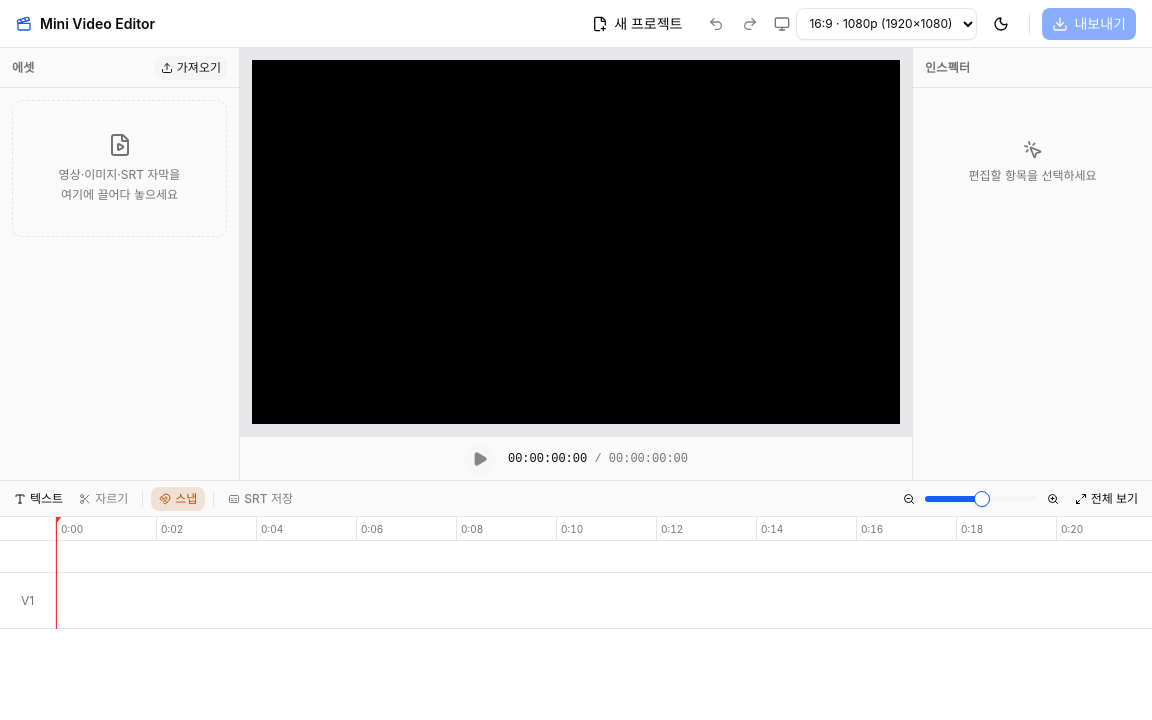
App › undo/redo › 텍스트 추가 → 입력 → 단축키로 한 단계씩 되돌리고 다시 실행한다
Step 1. Click the button "텍스트" → [39, 498], box [8,486,69,510]
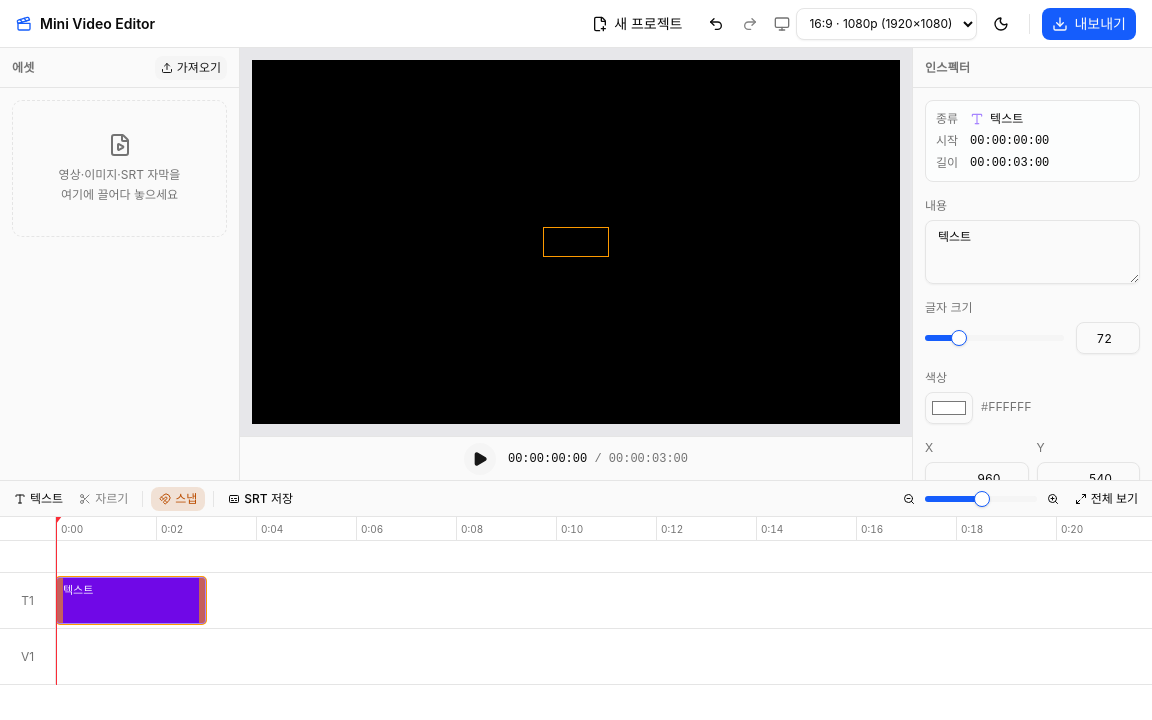
Step 2. Replace the text in the text box labelled "내용" with "안" → [1032, 252], box [925,220,1140,284]
Step 3. Replace the text in the text box labelled "내용" with "안녕" → [1032, 252], box [925,220,1140,284]
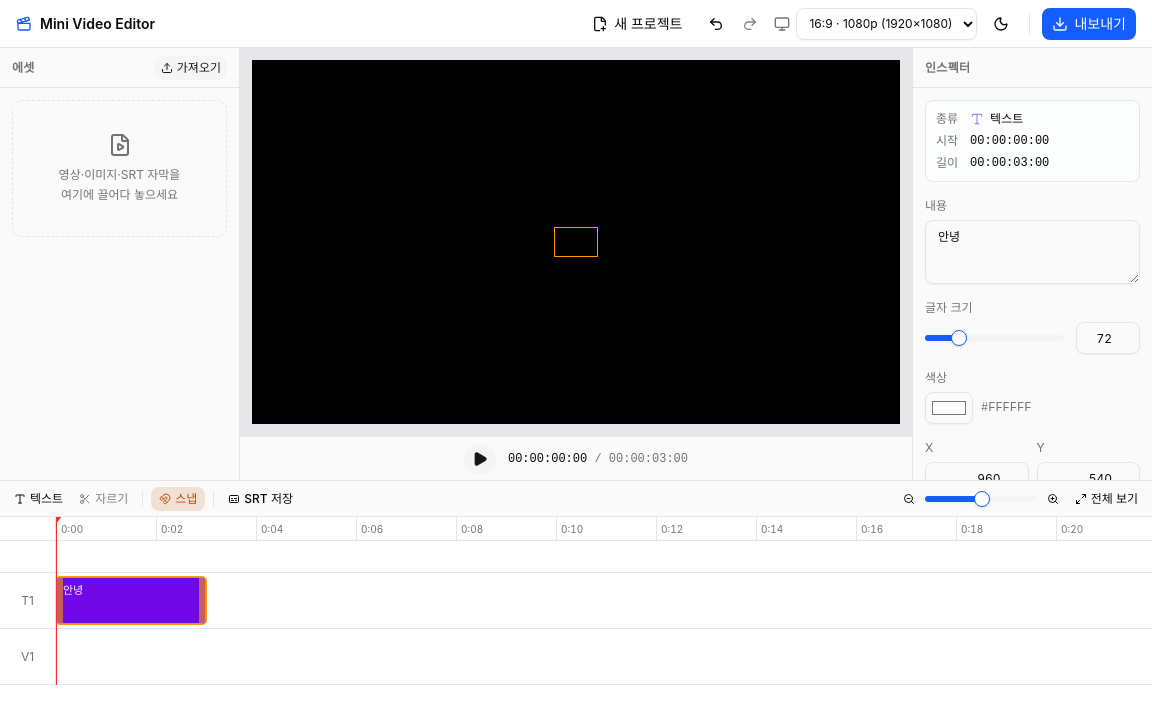
Now the button named "실행 취소" has attribute title="실행 취소: 텍스트 수정 (Ctrl/Cmd+Z)", box [700,8,732,40]
Step 4. Press z
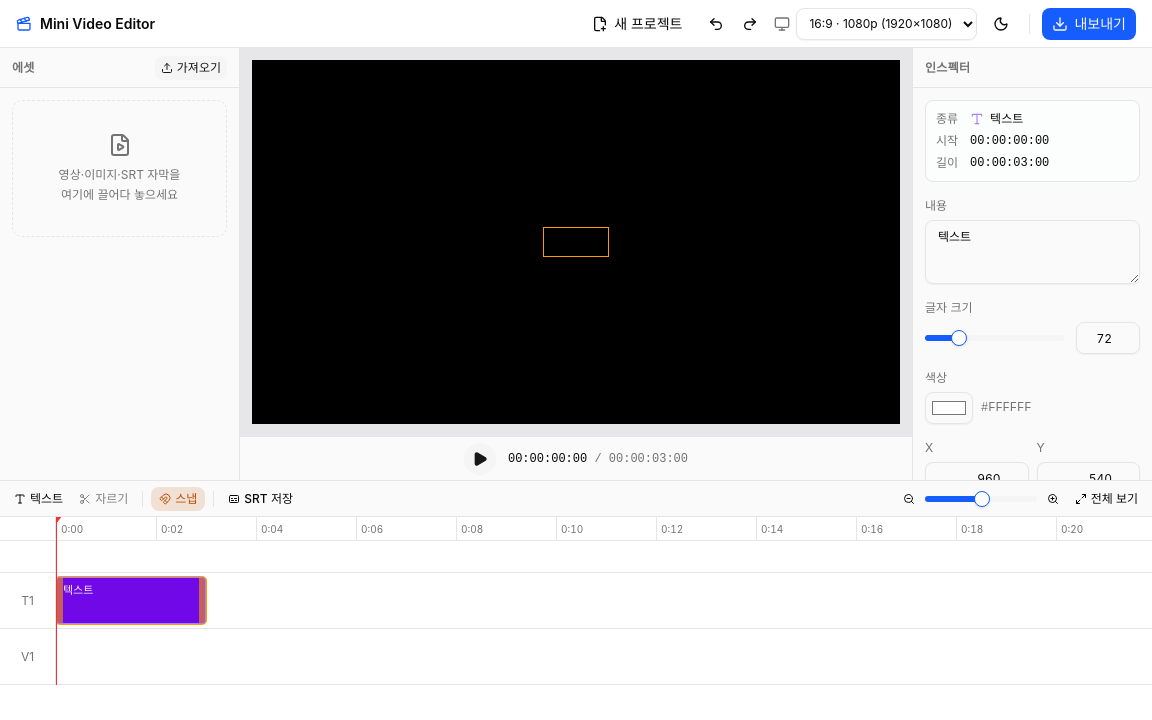
Now the text "텍스트" next to "종류" is shown, box [990,111,1023,126]
Now the text box labelled "내용" holds "텍스트", box [925,220,1140,284]
Step 5. Press z
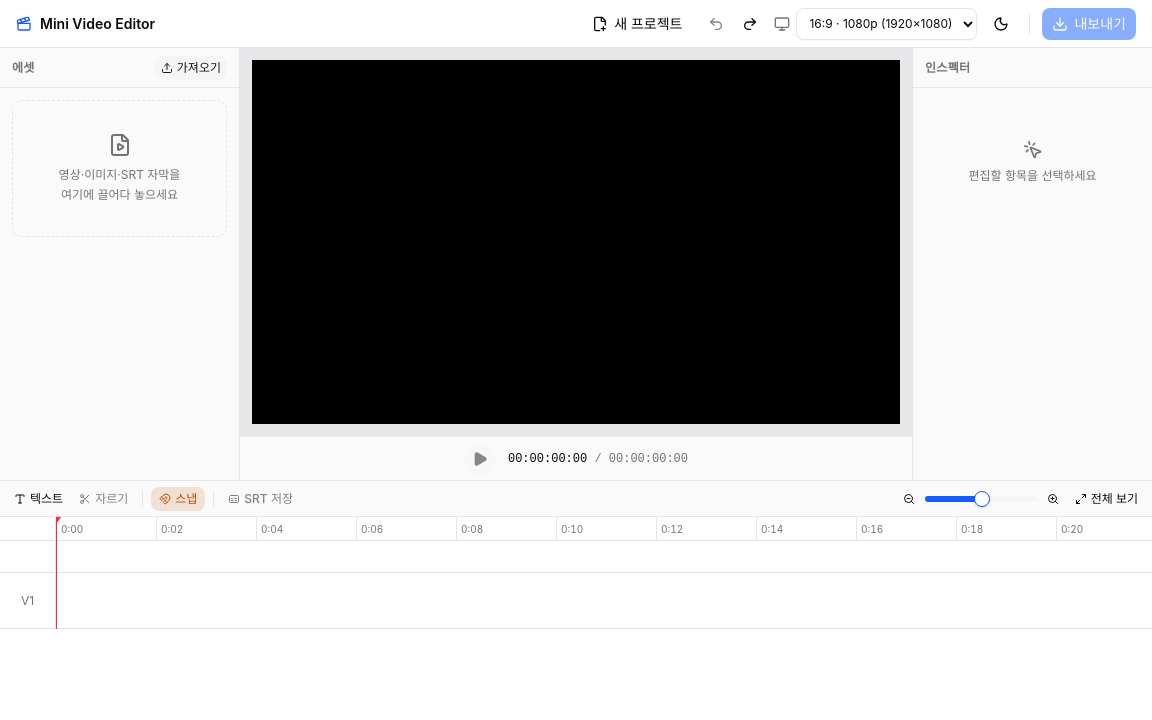
Now the text "편집할 항목을 선택하세요" is shown, box [968,140,1097,183]
Step 6. Press Z
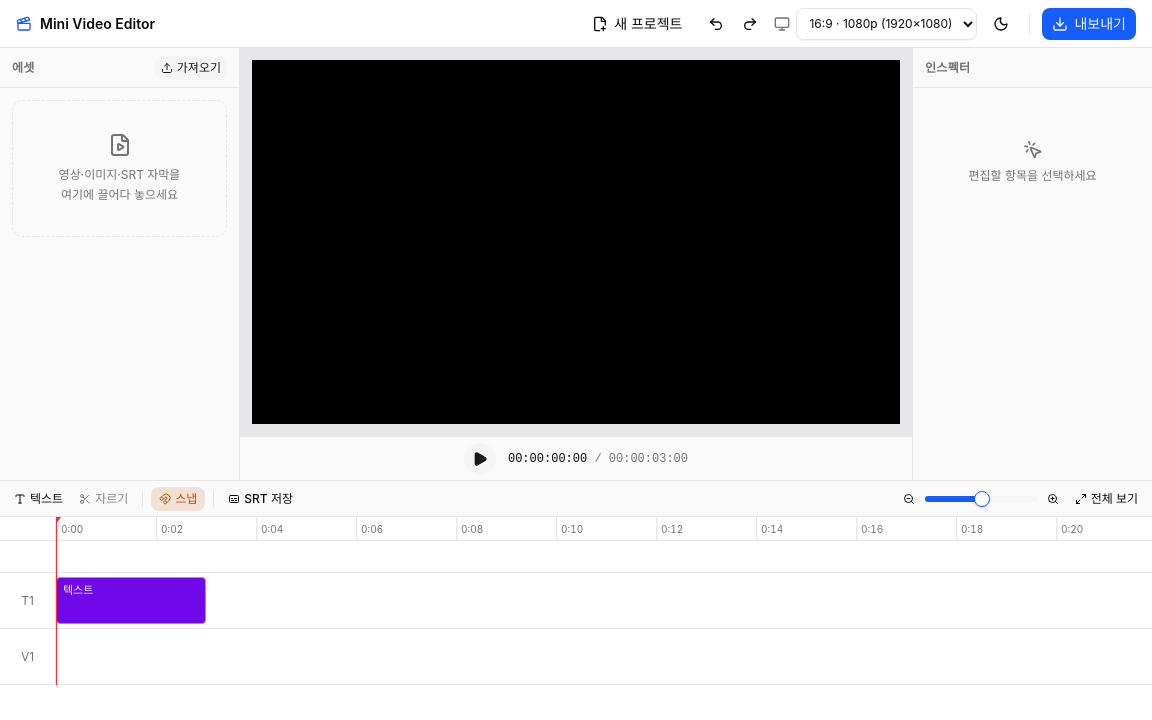
Expected: the button "텍스트" is shown, [8,486,69,510]
Step 7. Press y
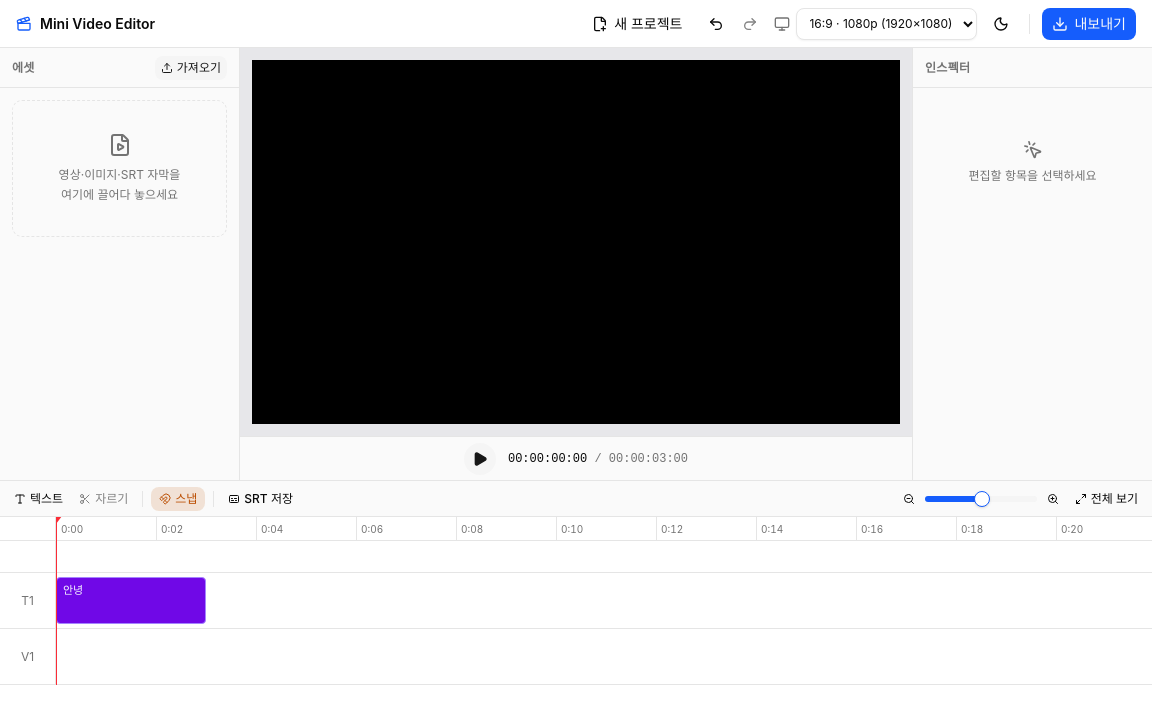
Now the button named "다시 실행" is disabled, box [734,8,766,40]
